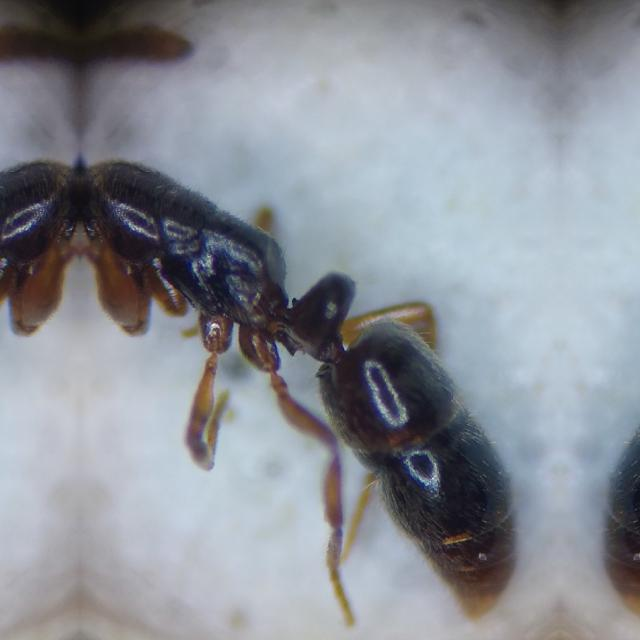Ponera: (80, 116, 560, 606)
